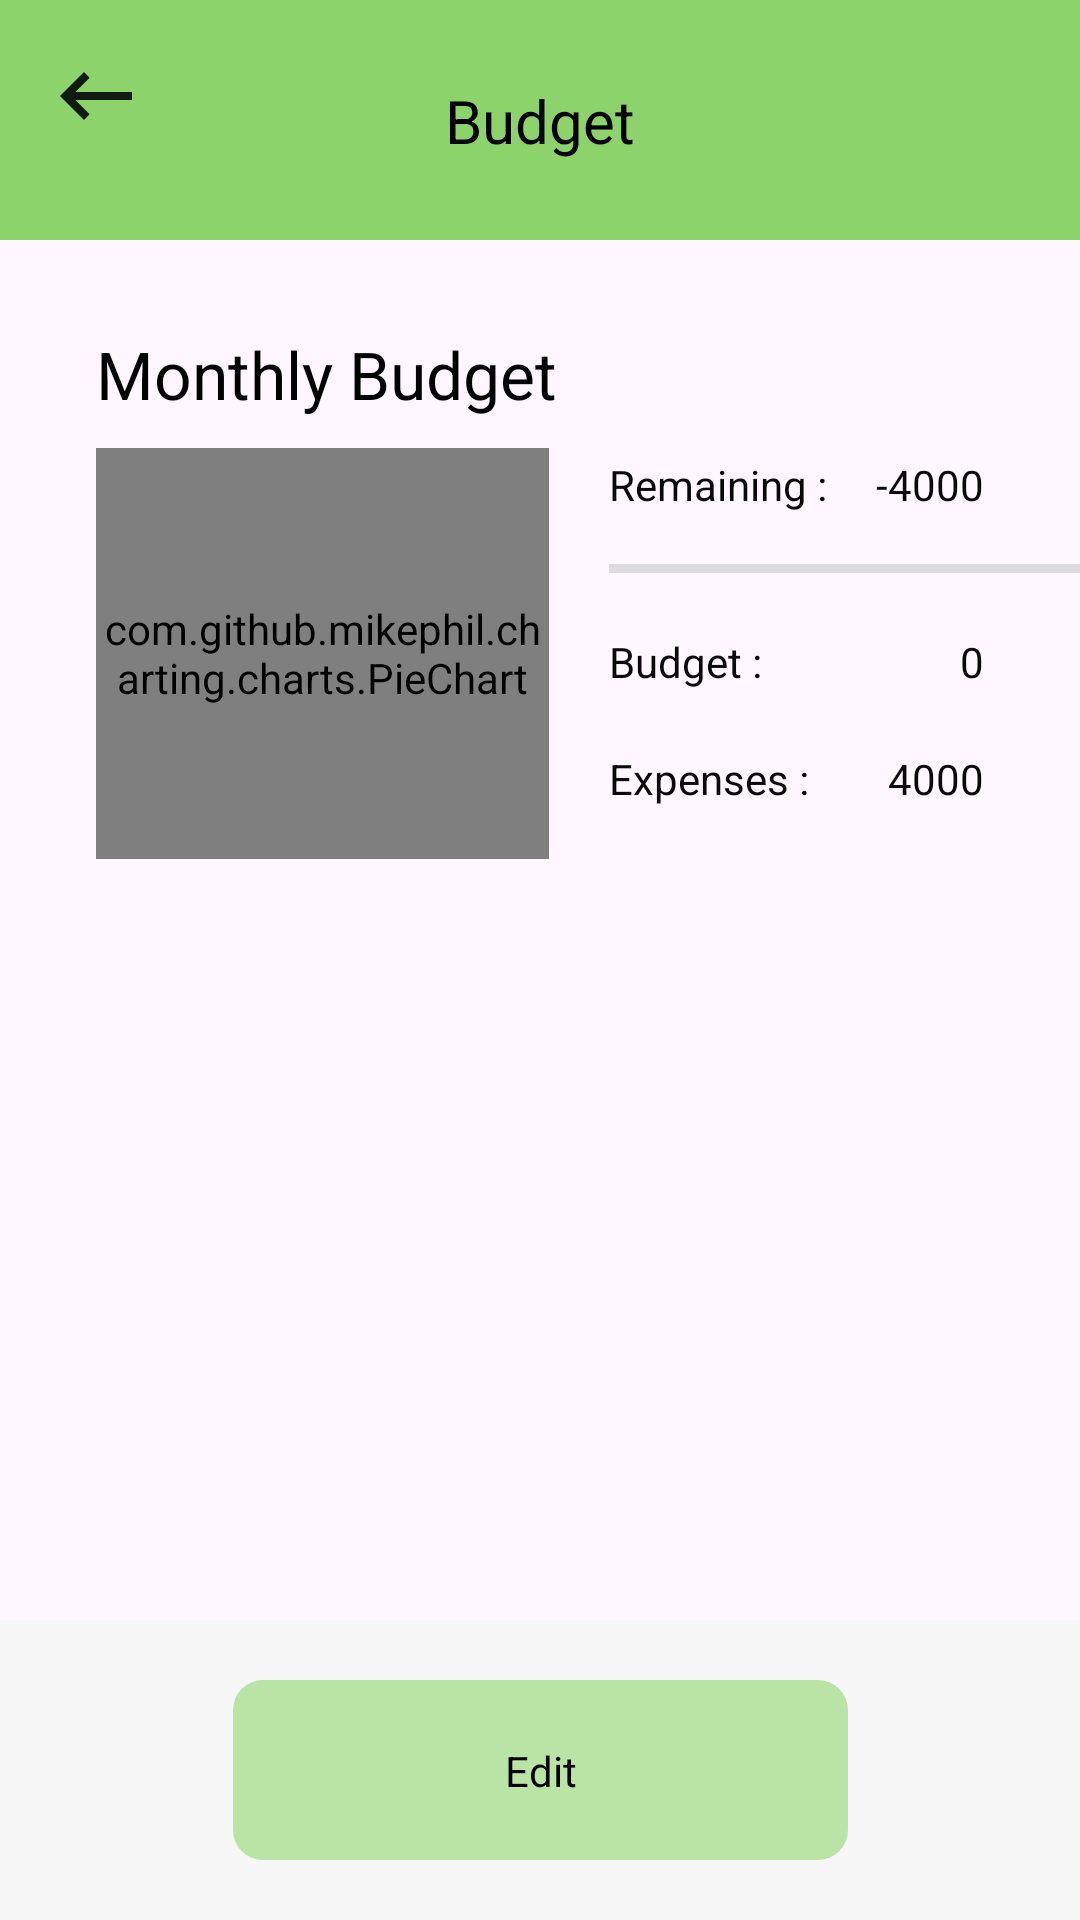

Icons on this 1080px x 1920px Android screen, each with the point to tap as point (x, y):
Tombol Kembali: point (96, 96)
